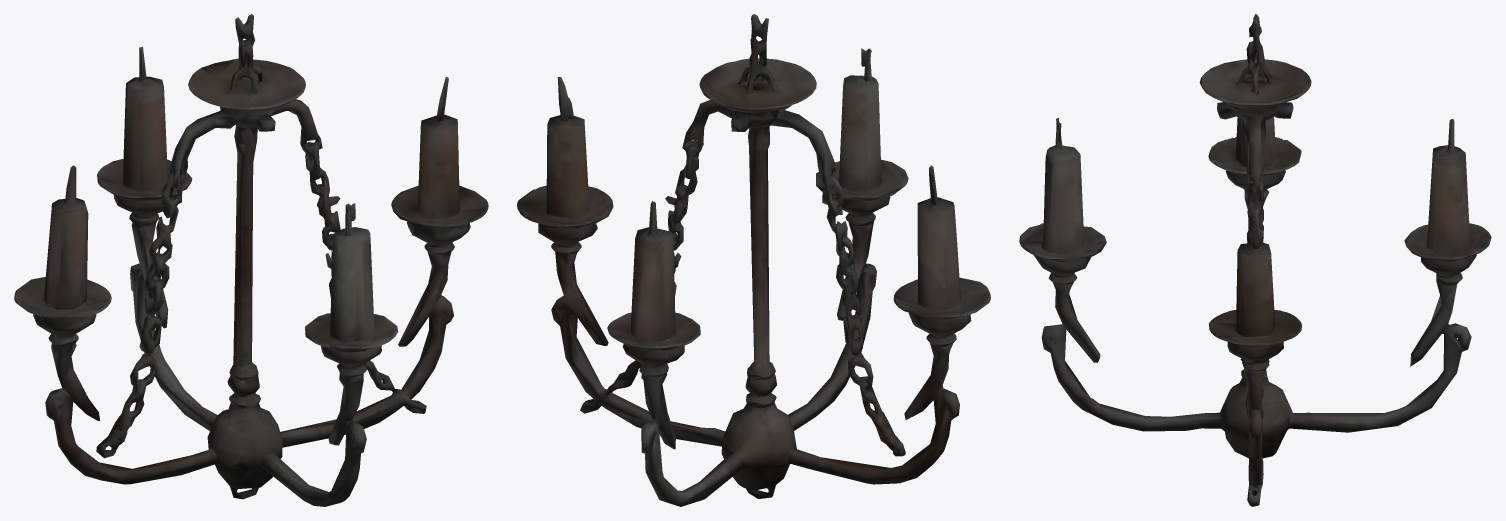
The model's file is old-iron-chandelier-v001.glb.
3 renders of one model, left to right at view 1: azimuth 30°, elevation 25°; view 2: azimuth 150°, elevation 25°; view 3: azimuth 270°, elevation 25°, orthographic. The views are drawn at different scales.
Parts seen in each view (by area): view 1: old-iron-chandelier; view 2: old-iron-chandelier; view 3: old-iron-chandelier.
Boxes of the visible parts, x1,y1,x2,y2 form: old-iron-chandelier: (14,14,488,506); old-iron-chandelier: (517,14,990,506); old-iron-chandelier: (1019,14,1491,506).
Size of the model in its own units: 1.15 by 1.16 by 1.1.
1 material, 1 textured.
